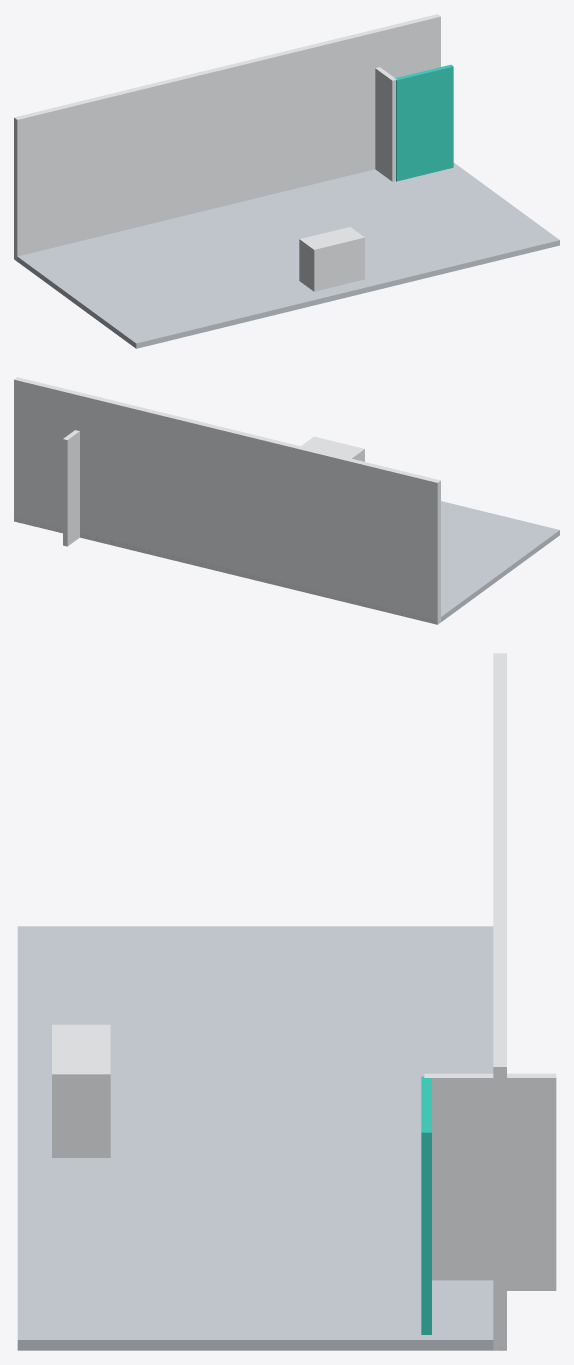
The picture shows the model from 3 angles, top to bottom: view 1: azimuth 30°, elevation 25°; view 2: azimuth 150°, elevation 25°; view 3: azimuth 270°, elevation 25°; orthographic projection. The views are drawn at different scales.
Visible parts, largest first — view 1: Exhibition Booth Concept; view 2: Exhibition Booth Concept; view 3: Exhibition Booth Concept.
Boxes of the visible parts, x1,y1,x2,y2 form: Exhibition Booth Concept: [14, 14, 559, 348]; Exhibition Booth Concept: [14, 377, 559, 624]; Exhibition Booth Concept: [17, 653, 556, 1350].
Bounding box in the file's own units: 10 × 3.2 × 5.51.
